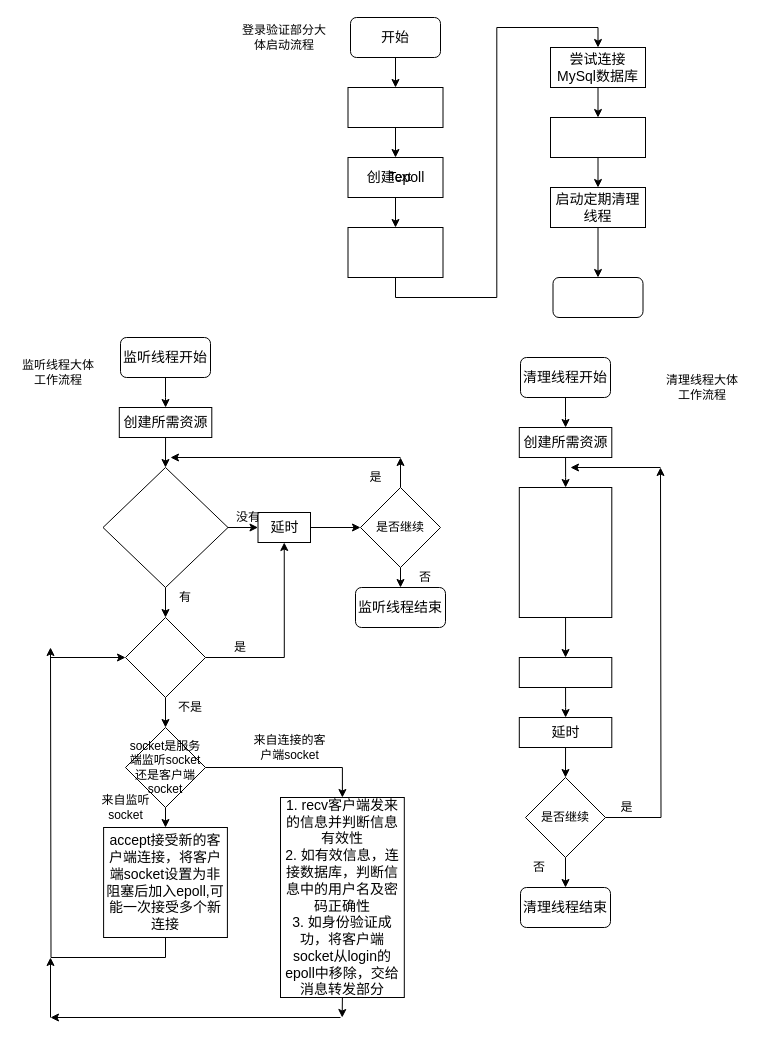
This 762x1043 diagram has some shape labels left out. The shapes that lost their labels are listed below. From the top down, each one's centre as x and y in pixels, then its label:
At (x=395, y=107): "开启监听端口".
At (x=598, y=137): "启动监听线程".
At (x=395, y=252): "监听端口设置非阻塞并加入epoll".
At (x=597, y=297): "结束".
At (x=165, y=527): "epoll的socket中是否有有信息到来的socket".
At (x=565, y=552): "遍历已连接客户端socket列表，将已关闭的socket，尝试登录过多的socket放入待清理socket表中".
At (x=165, y=657): "遍历就绪socket，是否是最后一个".
At (x=565, y=672): "清理待清理列表中的socket".
